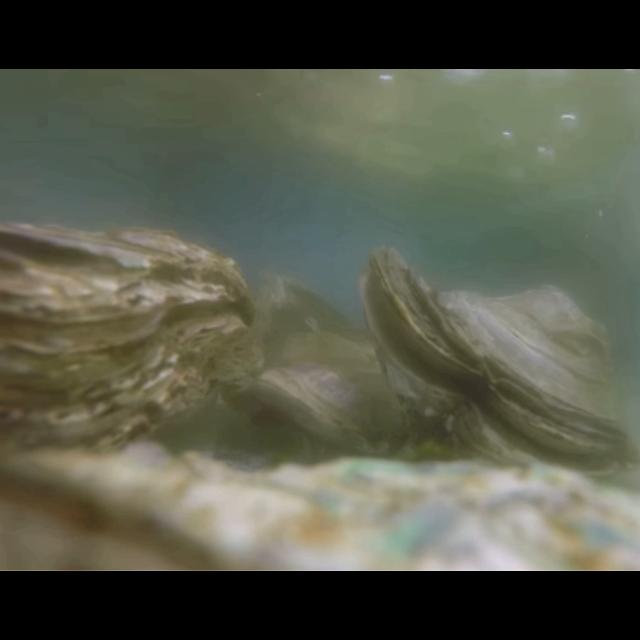Oyster-Closed: (0, 221, 256, 479)
Oyster-Indeterminate: (0, 441, 640, 572), (257, 334, 419, 464)
Oyster-Open: (356, 245, 640, 490)
